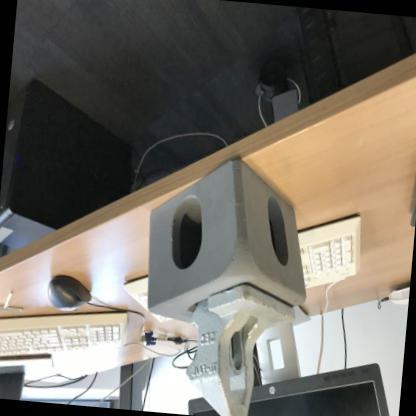CornerCasting: (132, 144, 321, 340)
Twistlock: (176, 276, 310, 415)
